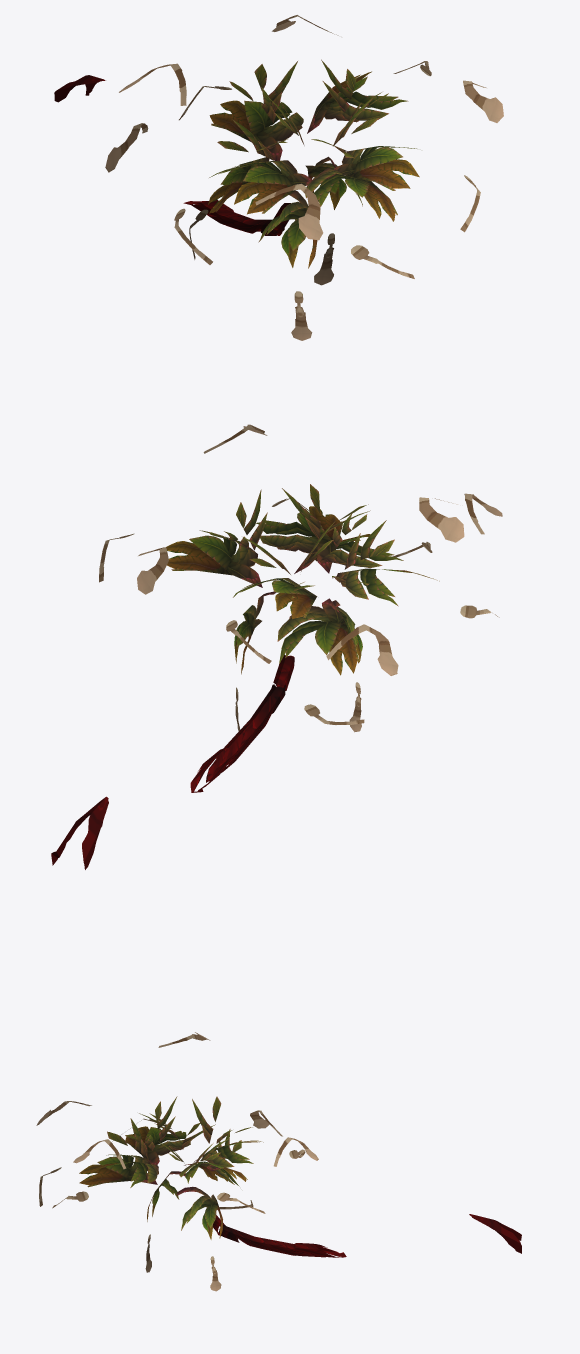
The model's file is trp_palm2.glb.
3 views of the same model, one above another, from view 1: azimuth 30°, elevation 25°; view 2: azimuth 150°, elevation 25°; view 3: azimuth 270°, elevation 25° (orthographic). The views are drawn at different scales.
Visible parts, largest first — view 1: SM_Env_Tree_Palm_02_LOD0; view 2: SM_Env_Tree_Palm_02_LOD0; view 3: SM_Env_Tree_Palm_02_LOD0.
Boxes of the visible parts, x1,y1,x2,y2 form: SM_Env_Tree_Palm_02_LOD0: (54, 15, 503, 340); SM_Env_Tree_Palm_02_LOD0: (51, 424, 502, 869); SM_Env_Tree_Palm_02_LOD0: (36, 1032, 521, 1291).
Size of what is drawn, in the model's own units: 5.27 by 4.06 by 7.79.
Materials: 1 (1 with a texture image).
